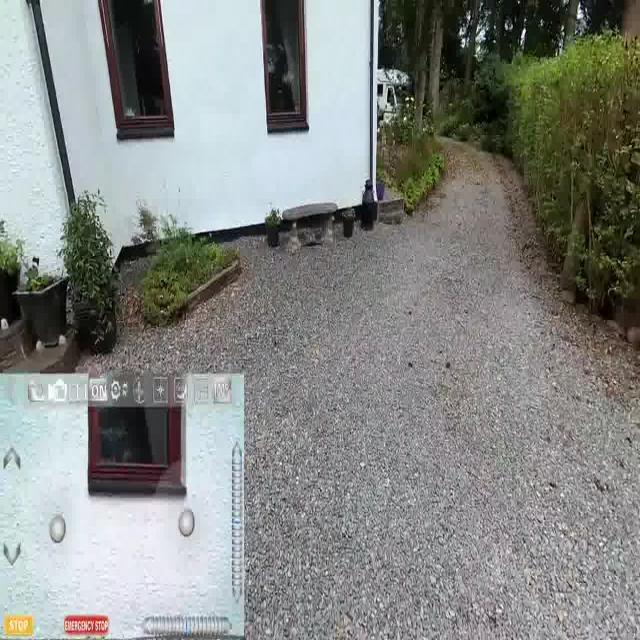drones: (303, 240, 322, 252)
